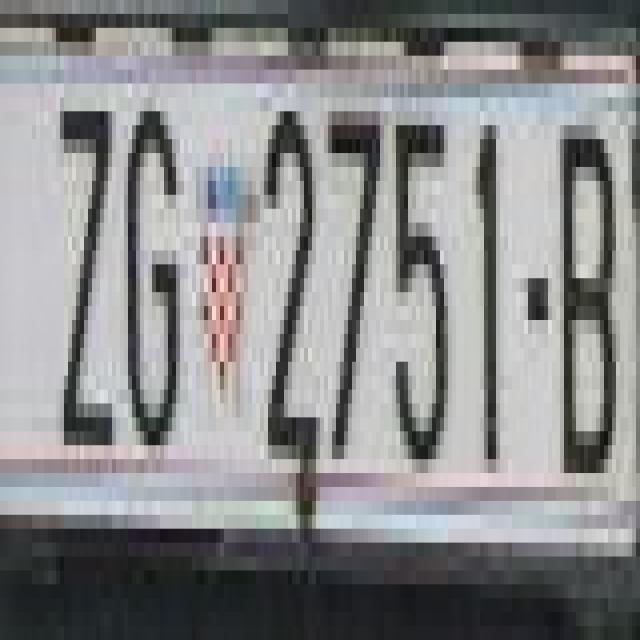1: (468, 98, 512, 446)
2: (248, 111, 312, 473)
5: (392, 111, 448, 459)
7: (328, 98, 376, 446)
B: (556, 139, 624, 487)
G: (124, 125, 192, 473)
Z: (44, 98, 116, 432)
